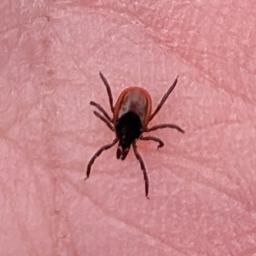Ixodes scapularis: (83, 70, 186, 200)
